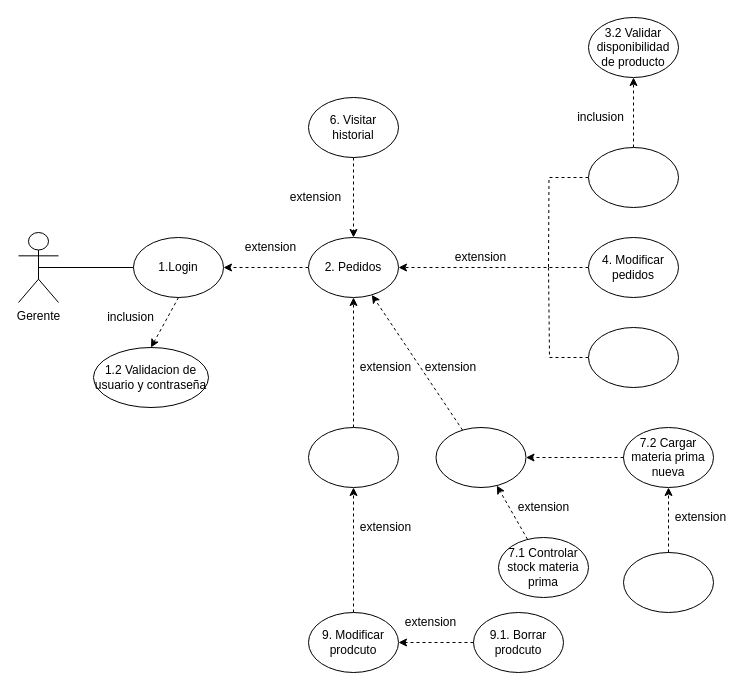
This 744x690 diagram has some shape labels left out. The shapes that lost their labels are listed below. From the top down, each one's centre as x and y in pixels, then its label:
At (633,177): "3. Cargar pedido".
At (633,357): "5. Borrar pedidos".
At (353,457): "8. Carga de Producto".
At (480,457): "7. Cargar materia prima".
At (668,582): "7.2.1 Eliminar materia prima".
